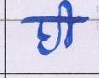i_matra: (59, 1, 75, 47)
